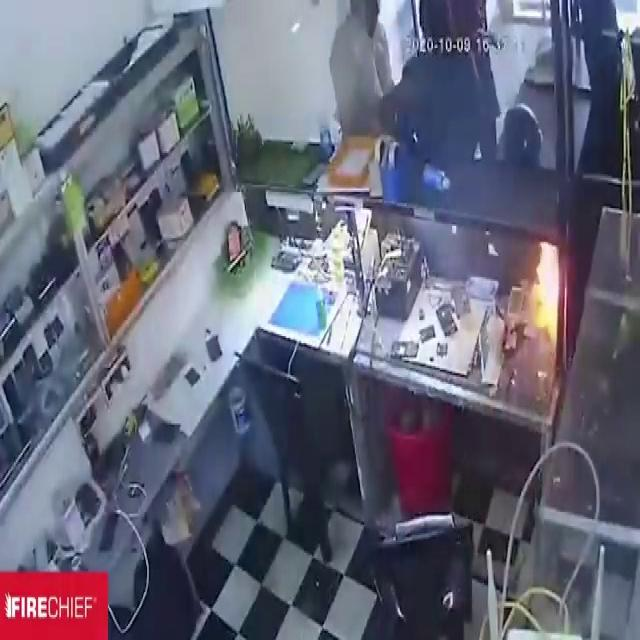fire: (524, 241, 558, 342)
